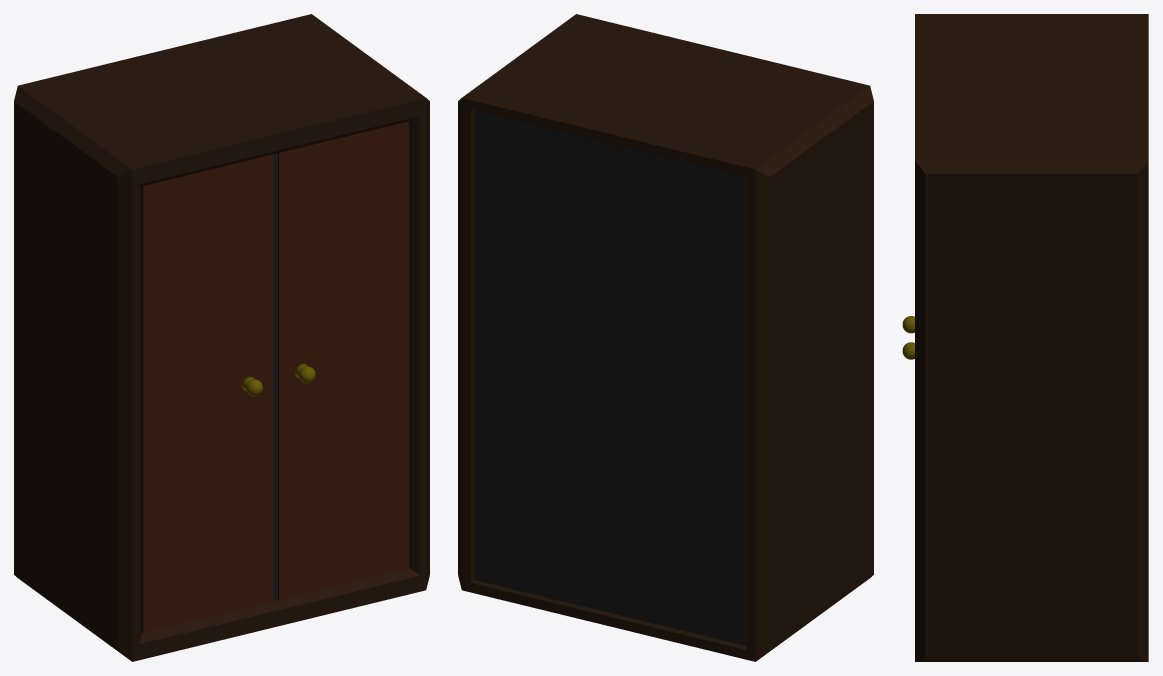
The model's file is waredrobe.fbx.
3 views of the same model, side by side, from view 1: azimuth 30°, elevation 25°; view 2: azimuth 150°, elevation 25°; view 3: azimuth 270°, elevation 25° (orthographic).
Visible parts, largest first — view 1: Cube, Cube.001, Cube.002, Sphere; view 2: Cube.002, Cube; view 3: Cube, Sphere.
Part boxes in pixels (box(x1,y1,x2,y2)): Cube: box(14, 14, 429, 661); Cube.001: box(143, 121, 408, 632); Cube.002: box(141, 121, 409, 631); Sphere: box(242, 363, 315, 396); Cube.002: box(475, 111, 746, 645); Cube: box(458, 14, 873, 661); Cube: box(915, 14, 1148, 661); Sphere: box(902, 316, 914, 359).
Bounding box in the file's own units: 512 × 773 × 343.
